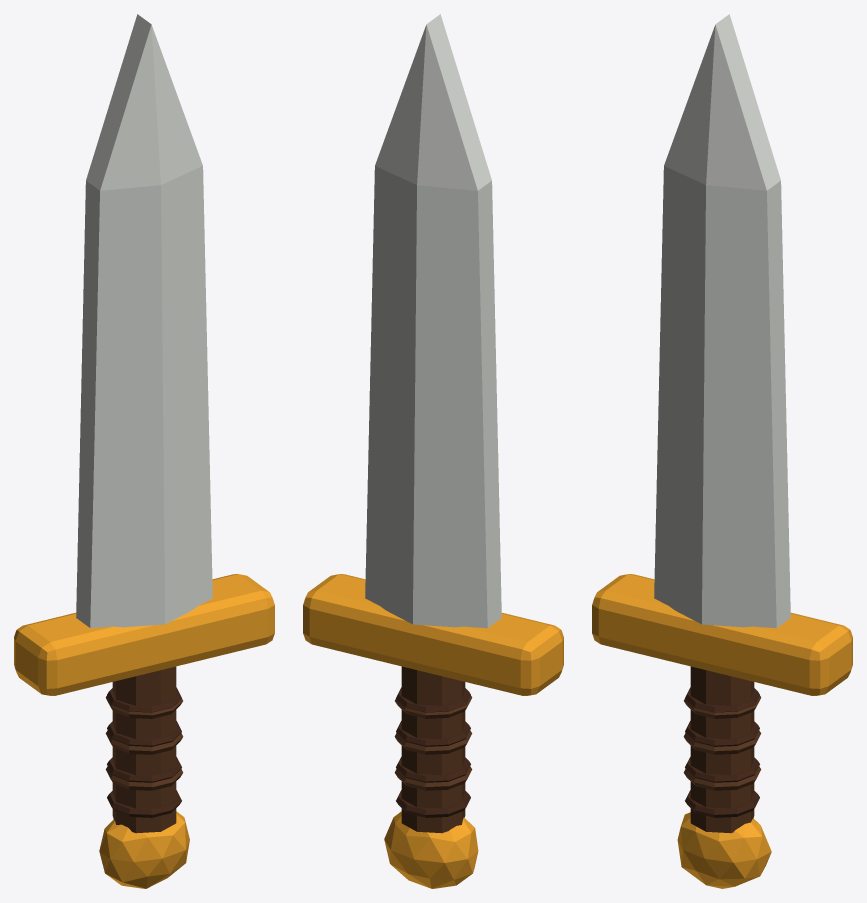
File: sword.glb
The picture shows the model from 3 angles, left to right: view 1: azimuth 30°, elevation 25°; view 2: azimuth 150°, elevation 25°; view 3: azimuth 330°, elevation 25°; orthographic projection.
Visible parts, largest first — view 1: Sword broad faceted blade, Sword gold guard, Sword leather grip, Sword pommel, Sword grip wrap, Sword grip wrap.002, Sword grip wrap.001, Woodland equipment worn binding, Woodland equipment worn binding.001, Sword grip wrap.003; view 2: Sword broad faceted blade, Sword gold guard, Sword leather grip, Sword pommel, Sword grip wrap, Sword grip wrap.002, Sword grip wrap.001, Woodland equipment worn binding, Woodland equipment worn binding.001, Sword grip wrap.003; view 3: Sword broad faceted blade, Sword gold guard, Sword leather grip, Sword pommel, Sword grip wrap, Sword grip wrap.002, Sword grip wrap.001, Woodland equipment worn binding, Woodland equipment worn binding.001, Sword grip wrap.003.
Part boxes in pixels (x1,y1,x2,y2): Sword broad faceted blade: [76, 14, 212, 628]; Sword gold guard: [14, 574, 274, 695]; Sword leather grip: [112, 666, 176, 833]; Sword pommel: [99, 811, 189, 888]; Sword grip wrap: [107, 790, 181, 817]; Sword grip wrap.002: [107, 721, 181, 746]; Sword grip wrap.001: [107, 757, 181, 782]; Woodland equipment worn binding: [105, 766, 183, 790]; Woodland equipment worn binding.001: [105, 730, 183, 754]; Sword grip wrap.003: [107, 687, 181, 712]; Sword broad faceted blade: [365, 14, 501, 628]; Sword gold guard: [303, 574, 563, 695]; Sword leather grip: [401, 666, 465, 833]; Sword pommel: [384, 811, 478, 888]; Sword grip wrap: [396, 790, 470, 817]; Sword grip wrap.002: [396, 721, 470, 746]; Sword grip wrap.001: [396, 757, 470, 782]; Woodland equipment worn binding: [394, 766, 472, 790]; Woodland equipment worn binding.001: [394, 730, 472, 754]; Sword grip wrap.003: [396, 687, 470, 712]; Sword broad faceted blade: [654, 14, 790, 628]; Sword gold guard: [592, 574, 852, 695]; Sword leather grip: [690, 666, 754, 833]; Sword pommel: [677, 812, 771, 888]; Sword grip wrap: [685, 790, 759, 817]; Sword grip wrap.002: [685, 721, 759, 746]; Sword grip wrap.001: [685, 757, 759, 782]; Woodland equipment worn binding: [683, 766, 761, 790]; Woodland equipment worn binding.001: [683, 730, 761, 754]; Sword grip wrap.003: [685, 687, 759, 712].
Size of the model in its own units: 0.48 by 1.69 by 0.146.
